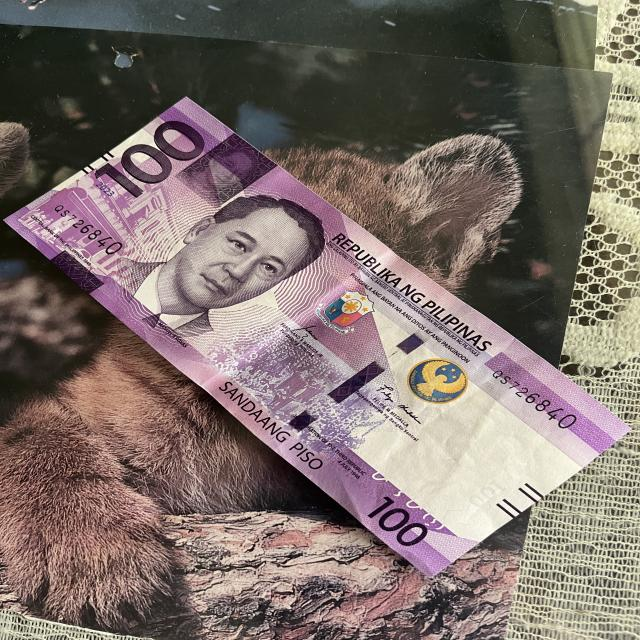concealed_value: (176, 132, 278, 209)
security_thread: (280, 328, 434, 437)
see_through_mark: (357, 456, 459, 538)
serial_number: (483, 361, 589, 439), (46, 196, 130, 261)
value: (93, 113, 216, 205)
value_watermark: (453, 470, 513, 515)
